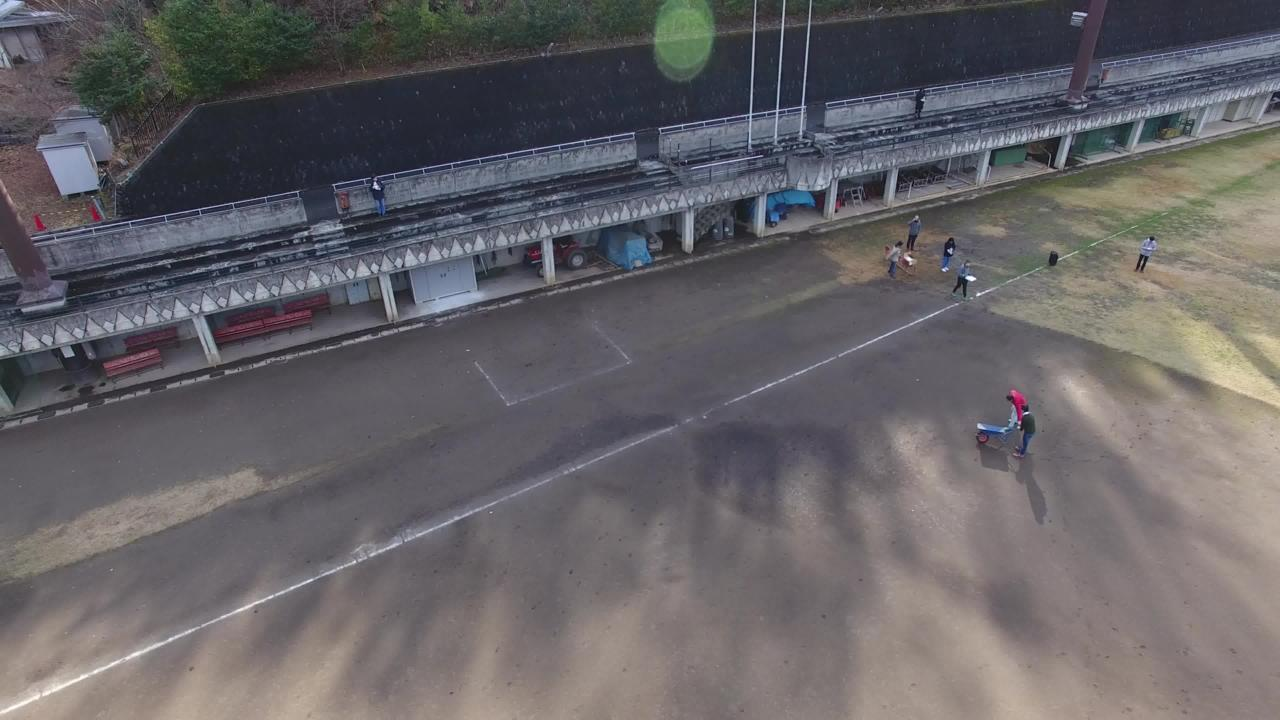person: (365, 169, 392, 223), (363, 167, 390, 221), (905, 192, 932, 246), (912, 70, 939, 124), (948, 253, 975, 307), (935, 220, 962, 274), (882, 230, 909, 284), (994, 371, 1021, 425), (1011, 402, 1038, 456), (1130, 229, 1161, 272)
